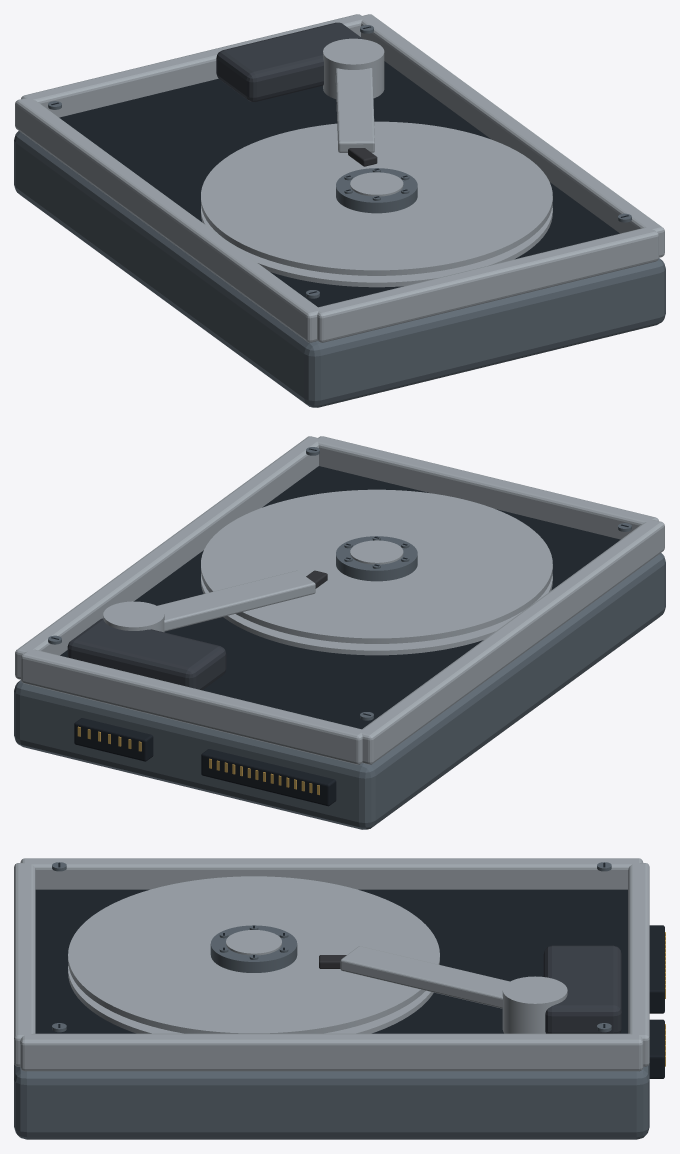
The model's file is hdd.glb.
3 views of the same model, one above another, from view 1: azimuth 30°, elevation 25°; view 2: azimuth 150°, elevation 25°; view 3: azimuth 270°, elevation 25° (orthographic). The views are drawn at different scales.
Visible parts, largest first — view 1: SSD_Metal_Aluminum, SSD_Metal_Dark_Steel, SSD_Plastic_Black, SSD_Paint_Graphite; view 2: SSD_Metal_Aluminum, SSD_Metal_Dark_Steel, SSD_Plastic_Black, SSD_Paint_Graphite, SSD_Contact_Gold; view 3: SSD_Metal_Aluminum, SSD_Metal_Dark_Steel, SSD_Plastic_Black, SSD_Paint_Graphite.
Boxes of the visible parts, x1,y1,x2,y2 form: SSD_Metal_Aluminum: [15, 14, 664, 342]; SSD_Metal_Dark_Steel: [14, 25, 665, 407]; SSD_Plastic_Black: [51, 26, 628, 307]; SSD_Paint_Graphite: [216, 22, 363, 101]; SSD_Metal_Aluminum: [15, 436, 664, 764]; SSD_Metal_Dark_Steel: [14, 447, 665, 829]; SSD_Plastic_Black: [51, 448, 628, 806]; SSD_Paint_Graphite: [67, 618, 226, 690]; SSD_Contact_Gold: [77, 726, 319, 795]; SSD_Metal_Aluminum: [14, 858, 649, 1071]; SSD_Metal_Dark_Steel: [14, 862, 649, 1139]; SSD_Plastic_Black: [35, 863, 664, 1078]; SSD_Paint_Graphite: [543, 945, 621, 1033].
Bounding box in the file's own units: 0.1016 × 0.03 × 0.1508.
